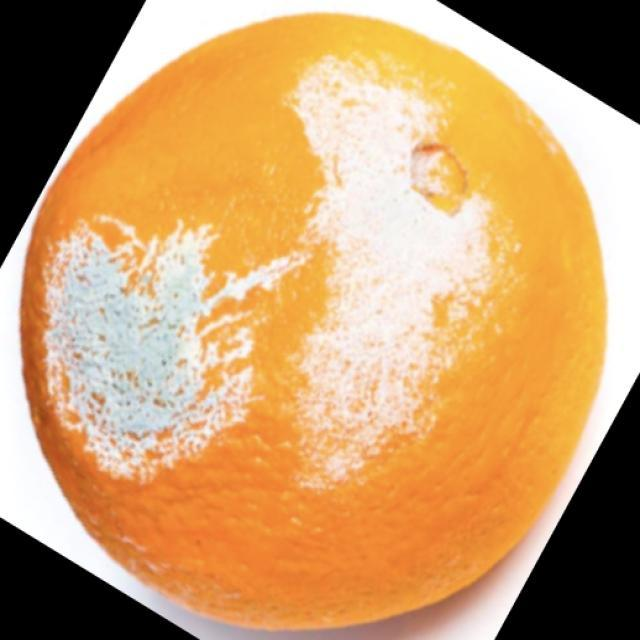sedikit-busuk: (22, 15, 605, 628)
